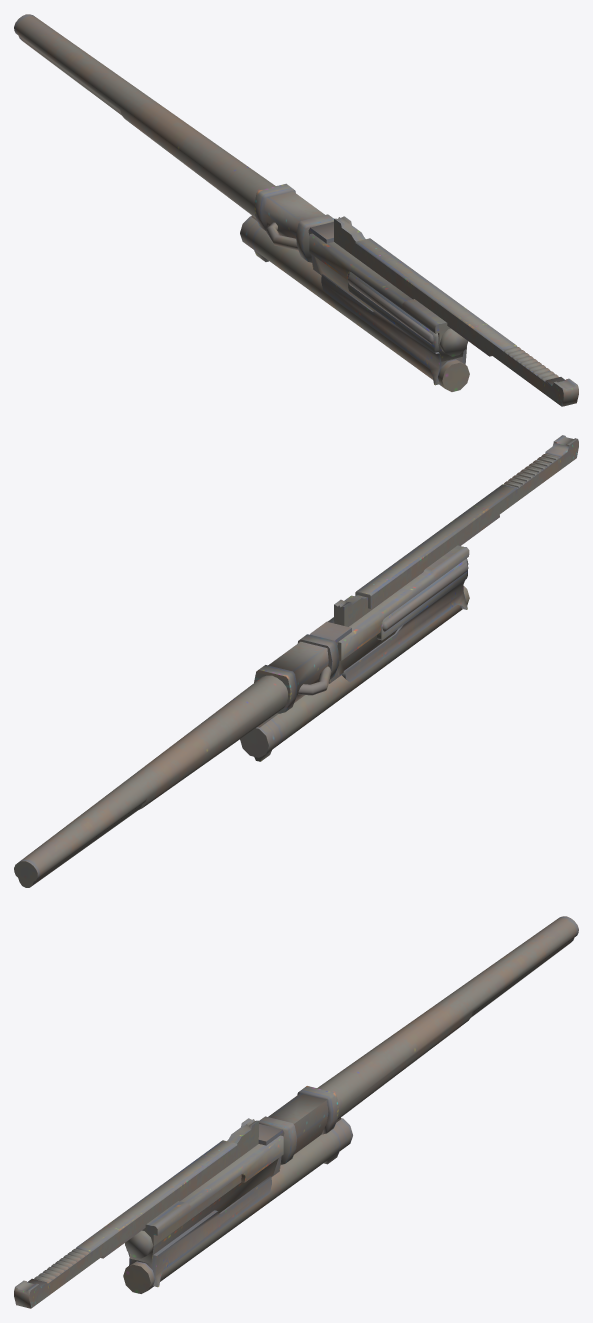
File: barrel3.obj
3 views of the same model, one above another, from view 1: azimuth 30°, elevation 25°; view 2: azimuth 150°, elevation 25°; view 3: azimuth 330°, elevation 25° (orthographic).
Visible parts, largest first — view 1: barrel3; view 2: barrel3; view 3: barrel3.
Boxes of the visible parts, x1,y1,x2,y2 form: barrel3: (14, 14, 578, 406); barrel3: (14, 435, 578, 887); barrel3: (14, 916, 578, 1308).
Size of the model in its own units: 5.41 by 10.99 by 112.
